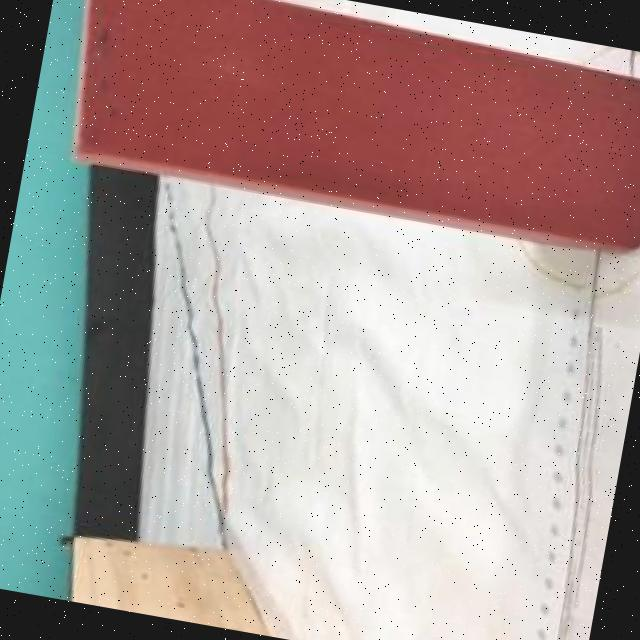redbox: (59, 0, 640, 259)
